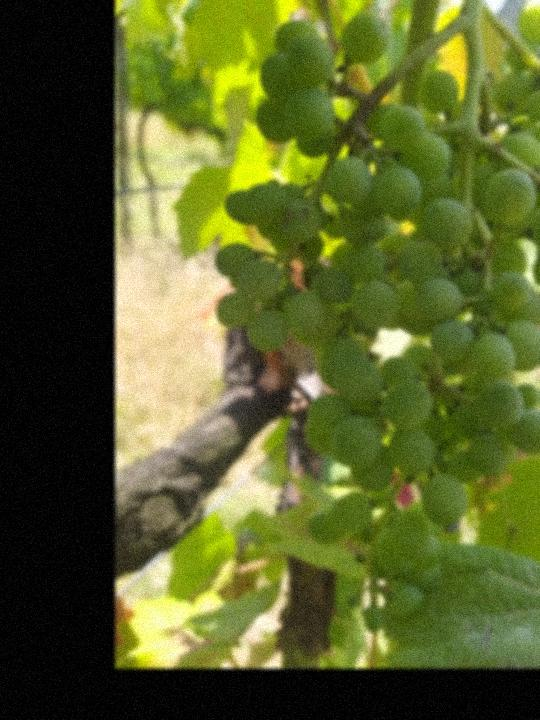grape: (212, 0, 540, 635)
